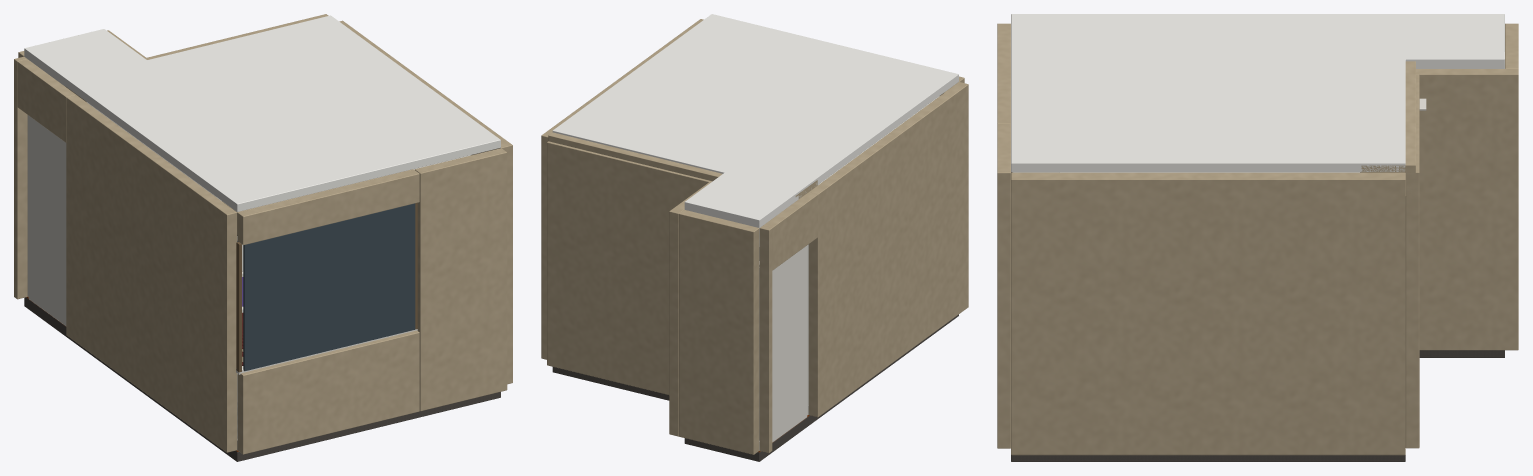
Rendered from room.glb.
The picture shows the model from 3 angles, left to right: view 1: azimuth 30°, elevation 25°; view 2: azimuth 150°, elevation 25°; view 3: azimuth 270°, elevation 25°; orthographic projection. The views are drawn at different scales.
Visible parts, largest first — view 1: 完整天花板, 书桌侧完整墙, 衣柜后墙, 窗户遮挡区近似补全, 窗下墙, 房门门扇, 窗上墙, 门后短墙, 房门上方墙, 完整地板基层, 床头侧完整墙, 窗竖框 (+1 smaller); view 2: 完整天花板, 书桌侧完整墙, 床侧北墙, 入口尽端墙, 房门门扇, 门后短墙, 房门上方墙, 入口凹位侧墙, 完整地板基层, 床头侧完整墙, 北侧空调吊顶, 入口低吊顶; view 3: 床头侧完整墙, 完整天花板, 入口凹位侧墙, 衣柜后墙, 床侧北墙, 完整地板基层, 北侧空调吊顶, 窗上墙, 入口尽端墙.
Part boxes in pixels (x1,y1,x2,y2): 完整天花板: [24, 15, 500, 211]; 书桌侧完整墙: [66, 95, 236, 452]; 衣柜后墙: [414, 148, 507, 411]; 窗户遮挡区近似补全: [243, 203, 415, 371]; 窗下墙: [237, 330, 419, 454]; 房门门扇: [28, 116, 66, 325]; 窗上墙: [237, 169, 419, 245]; 门后短墙: [14, 56, 27, 299]; 房门上方墙: [17, 59, 75, 142]; 完整地板基层: [24, 297, 500, 461]; 床头侧完整墙: [339, 20, 512, 384]; 窗竖框: [236, 242, 241, 372]; 完整天花板: [552, 14, 958, 223]; 书桌侧完整墙: [808, 82, 968, 417]; 床侧北墙: [547, 141, 710, 394]; 入口尽端墙: [679, 210, 759, 454]; 房门门扇: [772, 245, 807, 442]; 门后短墙: [759, 225, 772, 452]; 房门上方墙: [763, 192, 817, 270]; 入口凹位侧墙: [669, 181, 712, 436]; 完整地板基层: [552, 314, 958, 461]; 床头侧完整墙: [541, 19, 703, 359]; 北侧空调吊顶: [548, 132, 817, 198]; 入口低吊顶: [684, 195, 798, 246]; 床头侧完整墙: [1011, 172, 1405, 455]; 完整天花板: [1011, 14, 1504, 172]; 入口凹位侧墙: [1416, 69, 1518, 350]; 衣柜后墙: [997, 123, 1010, 448]; 床侧北墙: [1405, 74, 1419, 448]; 完整地板基层: [1011, 350, 1504, 461]; 北侧空调吊顶: [1361, 61, 1415, 195]; 窗上墙: [997, 23, 1010, 123]; 入口尽端墙: [1505, 23, 1518, 68].
Bounding box in the file's own units: 3.32 × 2.86 × 4.52.
Materials: 50 (20 with a texture image).
